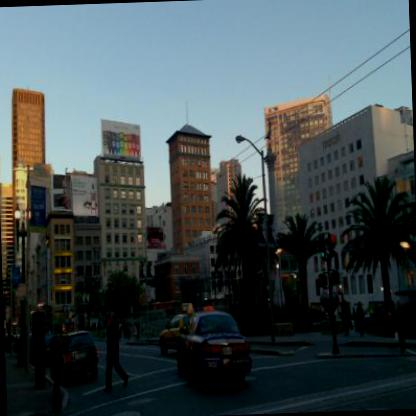car: (175, 309, 252, 387), (48, 331, 100, 384), (159, 302, 198, 358), (32, 338, 56, 370)
